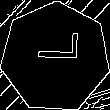L_W: (30, 41, 81, 74)
